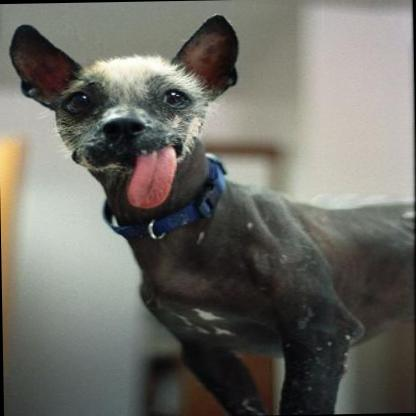Mexican_hairless: (4, 8, 413, 416)
